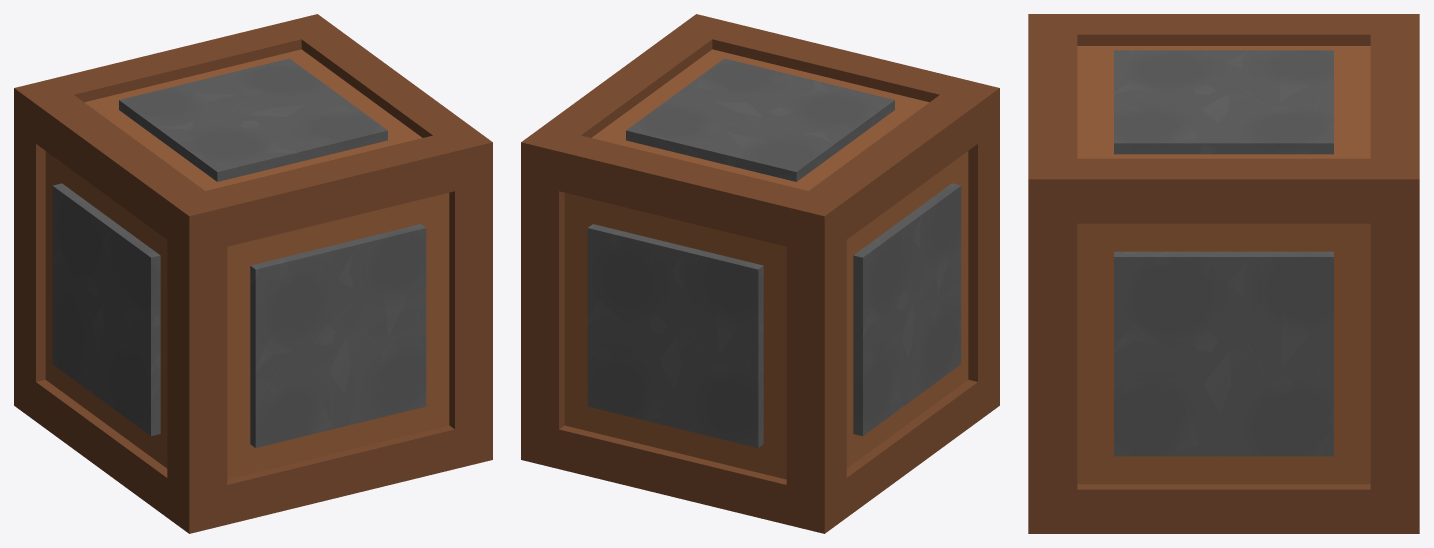
The model's file is Crate.fbx.
3 renders of one model, left to right at view 1: azimuth 30°, elevation 25°; view 2: azimuth 150°, elevation 25°; view 3: azimuth 270°, elevation 25°, orthographic. The views are drawn at different scales.
Parts seen in each view (by area): view 1: Cube.007; view 2: Cube.007; view 3: Cube.007.
Boxes of the visible parts, <box> form: Cube.007: <box>14,14,492,533</box>; Cube.007: <box>521,14,999,533</box>; Cube.007: <box>1028,14,1419,533</box>.
Bounding box in the file's own units: 160 × 160 × 160.
